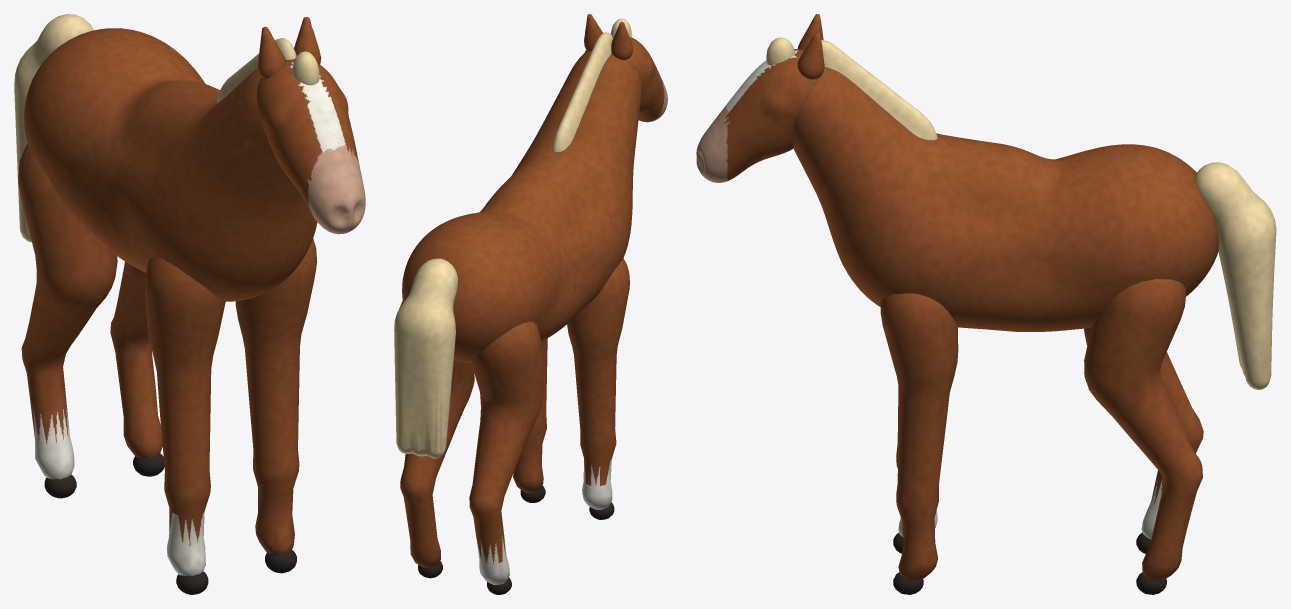
The model's file is animal_pony.glb.
3 renders of one model, left to right at view 1: azimuth 30°, elevation 25°; view 2: azimuth 150°, elevation 25°; view 3: azimuth 270°, elevation 25°, orthographic. The views are drawn at different scales.
Parts seen in each view (by area): view 1: animal_pony, leg0, leg2, leg1, head, leg3, tail; view 2: animal_pony, leg2, tail, leg0, leg3, head, leg1; view 3: animal_pony, leg3, leg1, tail, head, leg2.
Boxes of the visible parts, box(x1,y1,x2,y2) form: animal_pony: box(24, 28, 317, 301); leg0: box(145, 257, 225, 594); leg2: box(18, 144, 117, 498); leg1: box(235, 238, 316, 573); head: box(257, 17, 365, 234); leg3: box(110, 261, 164, 476); tail: box(14, 14, 93, 242); animal_pony: box(402, 32, 641, 362); leg2: box(469, 321, 543, 594); tail: box(394, 258, 457, 458); leg0: box(567, 258, 629, 519); leg3: box(399, 300, 474, 578); head: box(584, 14, 667, 122); leg1: box(513, 338, 547, 502); animal_pony: box(793, 39, 1218, 331); leg3: box(1084, 278, 1202, 594); leg1: box(880, 293, 958, 594); tail: box(1195, 162, 1276, 389); head: box(696, 14, 824, 182); leg2: box(1084, 328, 1203, 553).
Bounding box in the file's own units: 0.178 × 0.5924 × 0.5668.
Materials: 1 (1 with a texture image).
